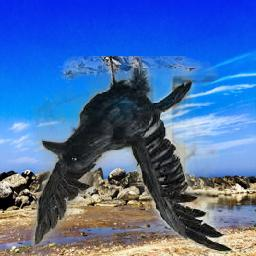Crow: (31, 57, 231, 254)
